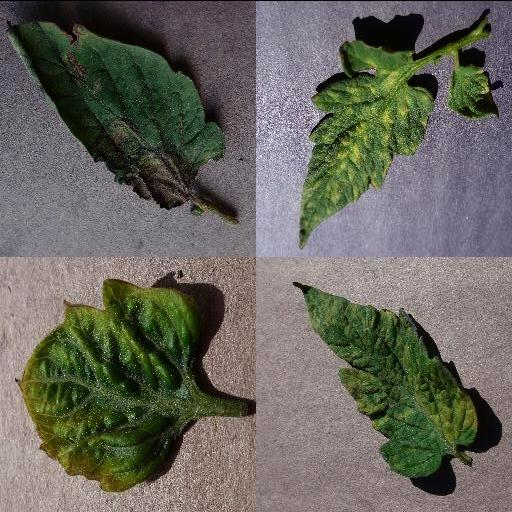Late Blight: (5, 17, 227, 207)
Leaf Mold: (290, 280, 478, 478), (296, 38, 438, 248)
Yellow Leaf Curl Virus: (14, 278, 206, 492)
